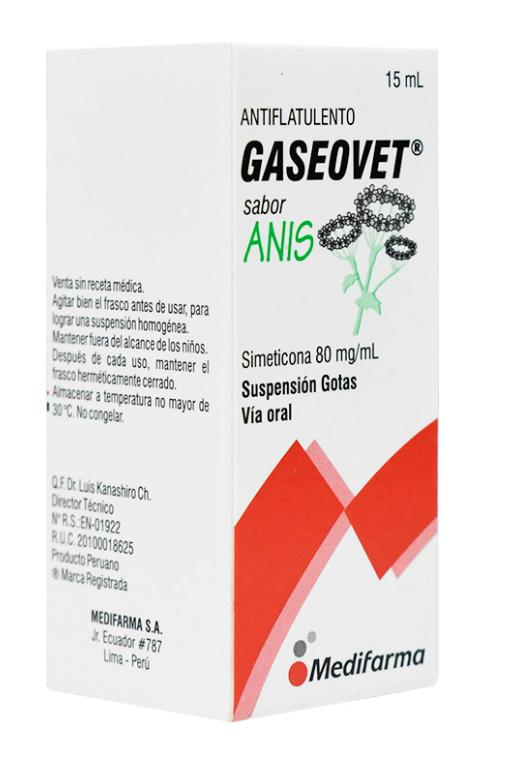brand: (304, 644, 435, 692)
extra_detail: (234, 189, 317, 277)
net_weight: (378, 65, 432, 94)
product_name: (234, 133, 429, 188)
